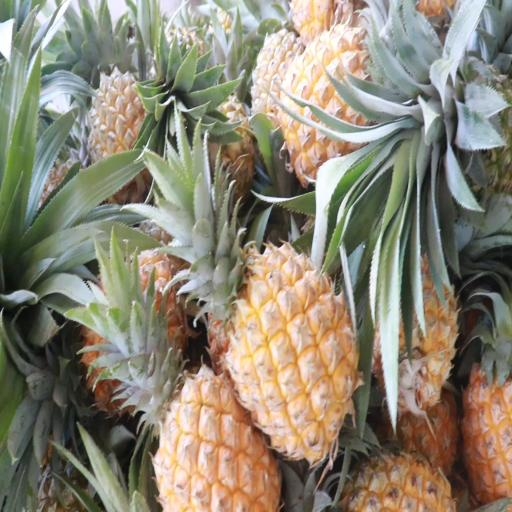Pineapple - v8 v1: (212, 228, 364, 442), (287, 13, 428, 172), (152, 349, 276, 512)
